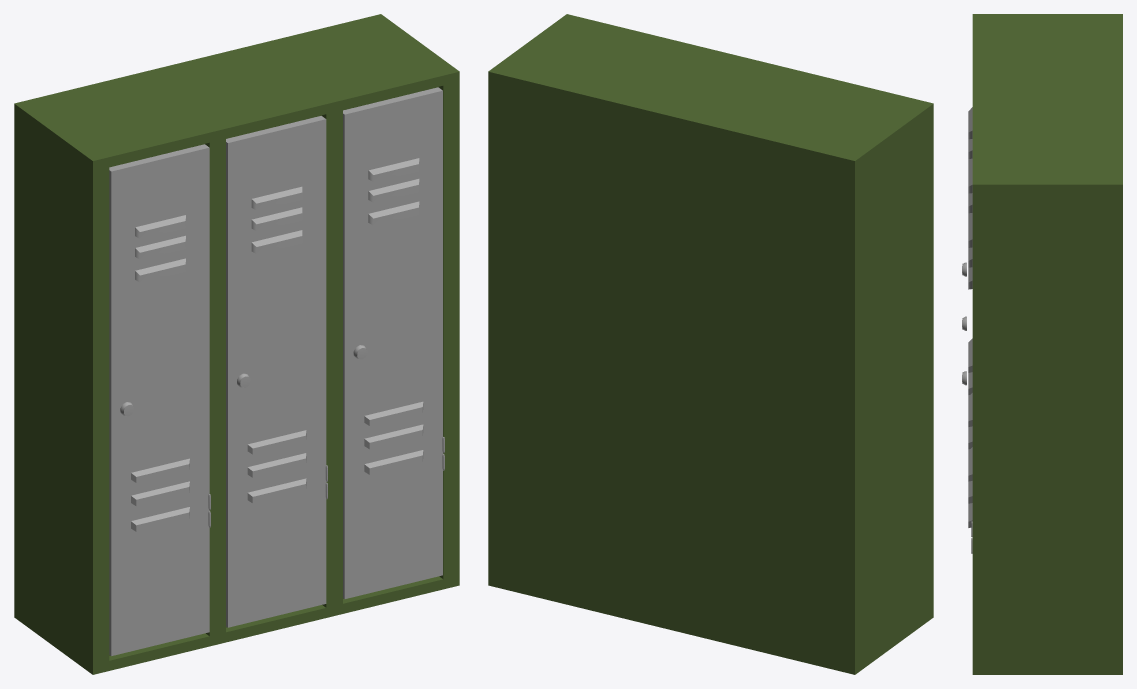
Rendered from Locker_BigPivoted.fbx.
The picture shows the model from 3 angles, left to right: view 1: azimuth 30°, elevation 25°; view 2: azimuth 150°, elevation 25°; view 3: azimuth 270°, elevation 25°; orthographic projection. The views are drawn at different scales.
Parts seen in each view (by area): view 1: polySurface24, polySurface44, polySurface43, polySurface40; view 2: polySurface24; view 3: polySurface24, polySurface40, polySurface44, polySurface43.
Part boxes in pixels (x1,y1,x2,y2): polySurface24: [14, 14, 459, 674]; polySurface44: [109, 144, 209, 655]; polySurface43: [226, 116, 326, 627]; polySurface40: [343, 87, 442, 599]; polySurface24: [488, 14, 933, 674]; polySurface24: [972, 14, 1122, 674]; polySurface40: [962, 216, 972, 527]; polySurface44: [962, 107, 972, 396]; polySurface43: [962, 161, 972, 450].
Bounding box in the file's own units: 13.45 × 18 × 5.36.
